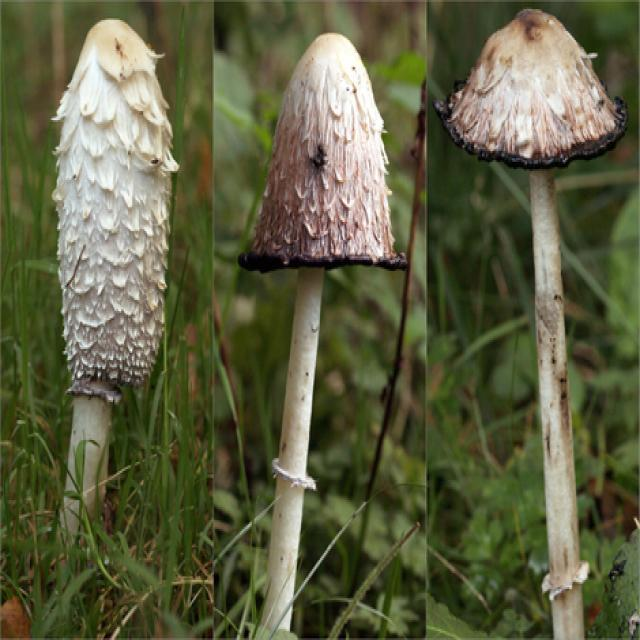Coprinus comatus: (439, 11, 627, 640), (237, 34, 408, 617), (52, 13, 176, 530)
